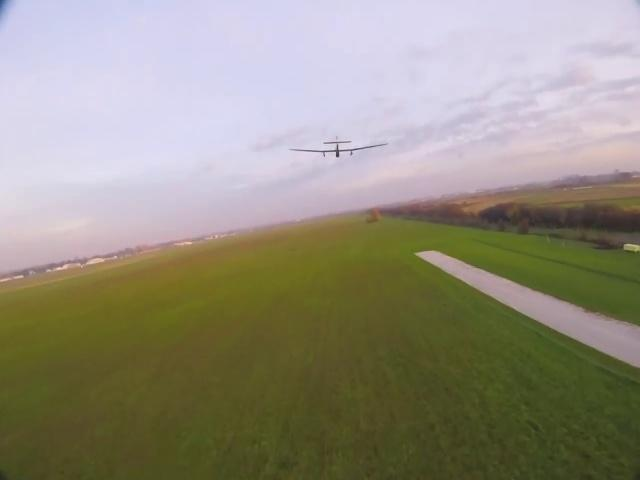Airplane: (283, 132, 392, 166)
